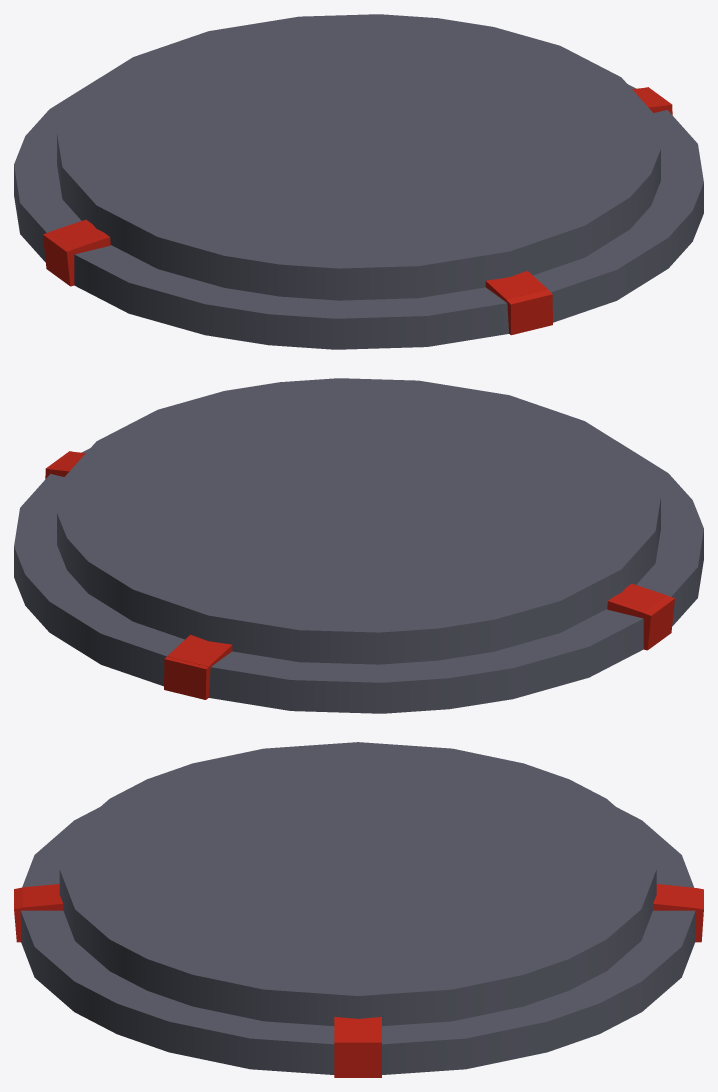
Rendered from Podium.fbx.
The picture shows the model from 3 angles, top to bottom: view 1: azimuth 30°, elevation 25°; view 2: azimuth 150°, elevation 25°; view 3: azimuth 270°, elevation 25°; orthographic projection.
Parts seen in each view (by area): view 1: podiuma; view 2: podiuma; view 3: podiuma.
Part boxes in pixels (x1,y1,x2,y2): podiuma: [14, 14, 703, 349]; podiuma: [14, 378, 703, 713]; podiuma: [14, 742, 703, 1077].
Size of the model in its own units: 2013 by 200 by 2000.
